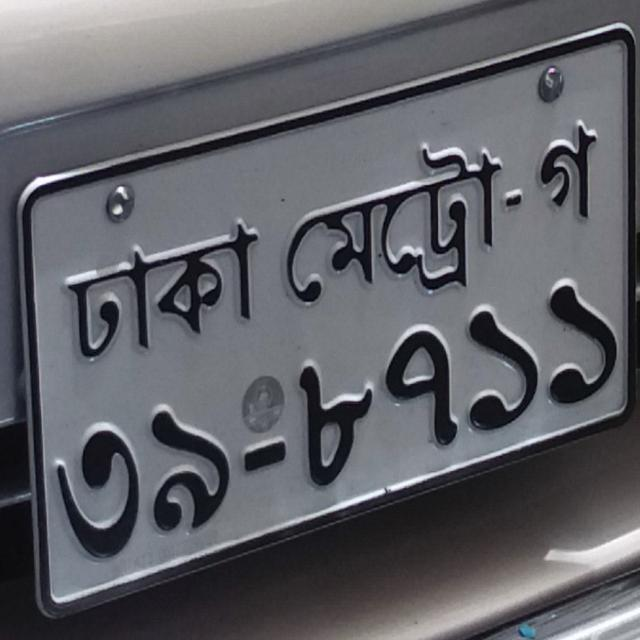numberplate: (12, 16, 637, 619)
